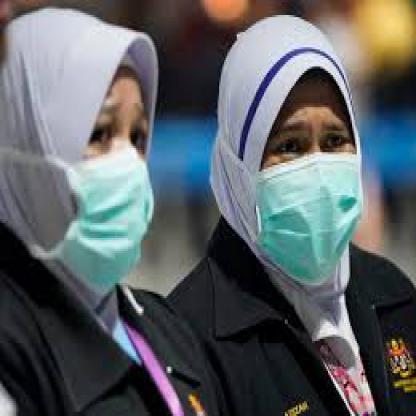Wearing_Mask: (261, 95, 357, 290), (69, 71, 155, 283)
